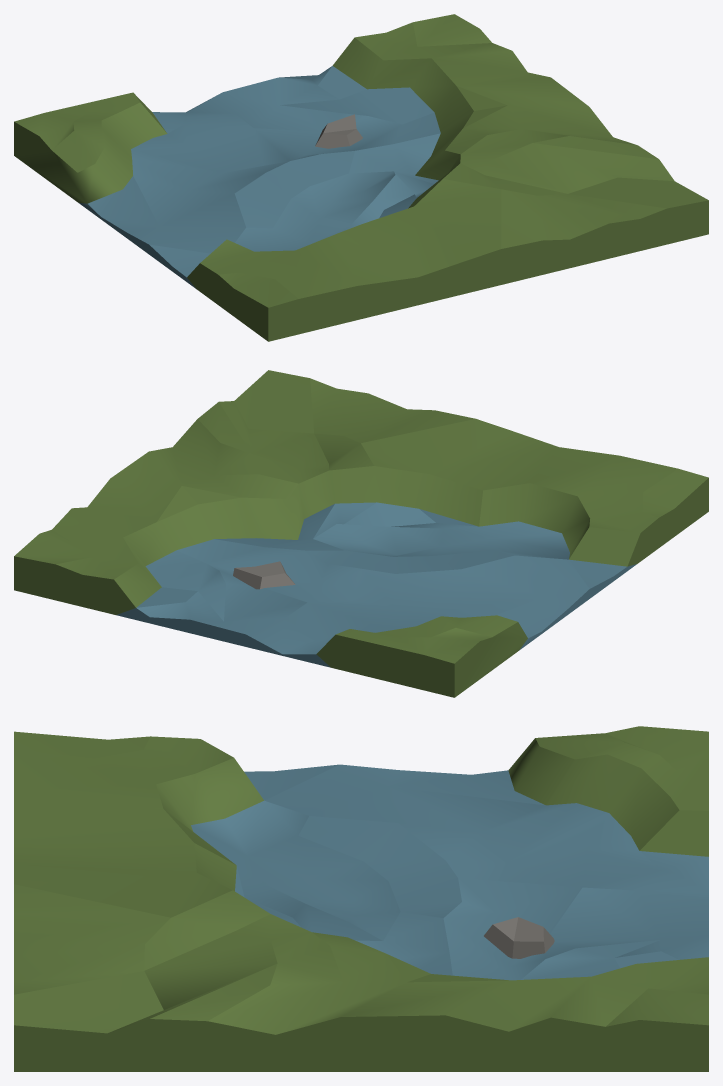
The model's file is Water_Turn_RB.glb.
The picture shows the model from 3 angles, top to bottom: view 1: azimuth 30°, elevation 25°; view 2: azimuth 150°, elevation 25°; view 3: azimuth 270°, elevation 25°; orthographic projection. The views are drawn at different scales.
Parts seen in each view (by area): view 1: Water_Turn_RB; view 2: Water_Turn_RB; view 3: Water_Turn_RB.
Part boxes in pixels (bbox=[...]): Water_Turn_RB: bbox=[14, 14, 708, 341]; Water_Turn_RB: bbox=[14, 370, 708, 697]; Water_Turn_RB: bbox=[14, 726, 708, 1071].
Bounding box in the file's own units: 1.47 × 0.1345 × 1.47.
